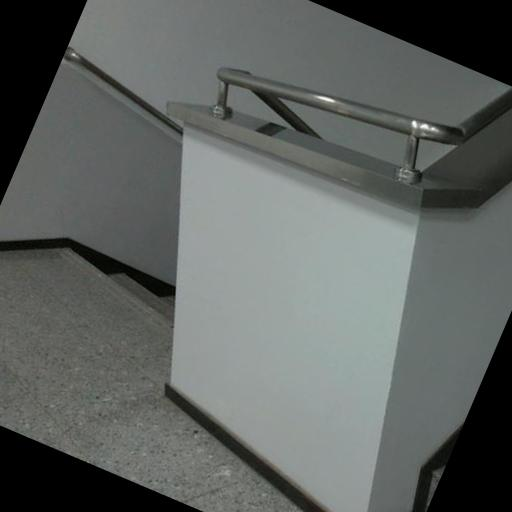stairs: (110, 273, 174, 325)
